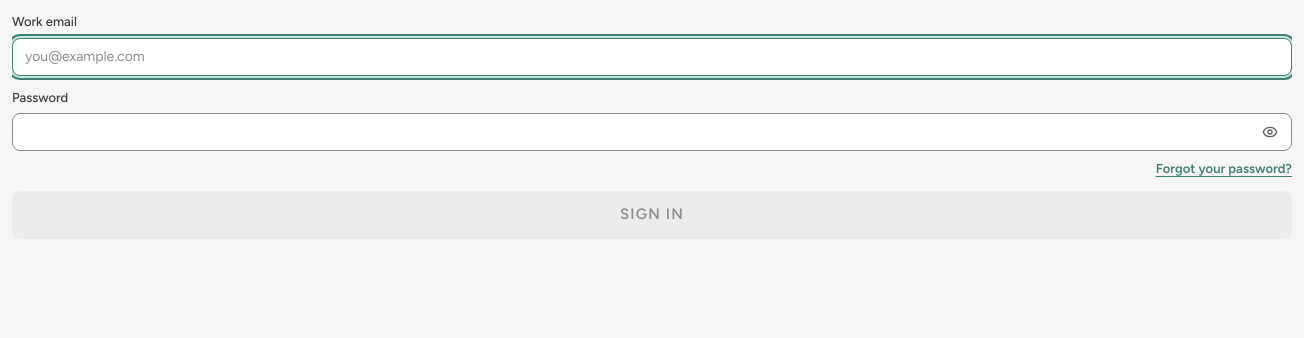
Test: failed credentials stay on the form › reports a configuration failure by variable name, without navigating
In the field labelled "Work email": (652, 56) [12, 38, 1292, 76], type "marlowe.example@glowbrands.test"
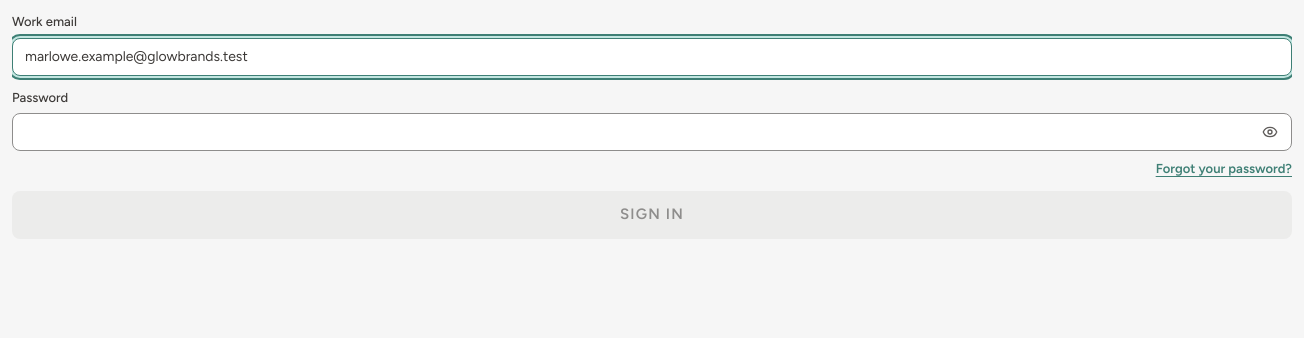
In the password field labelled "Password": (652, 132) [12, 113, 1292, 151], type "a-correct-horse-battery"
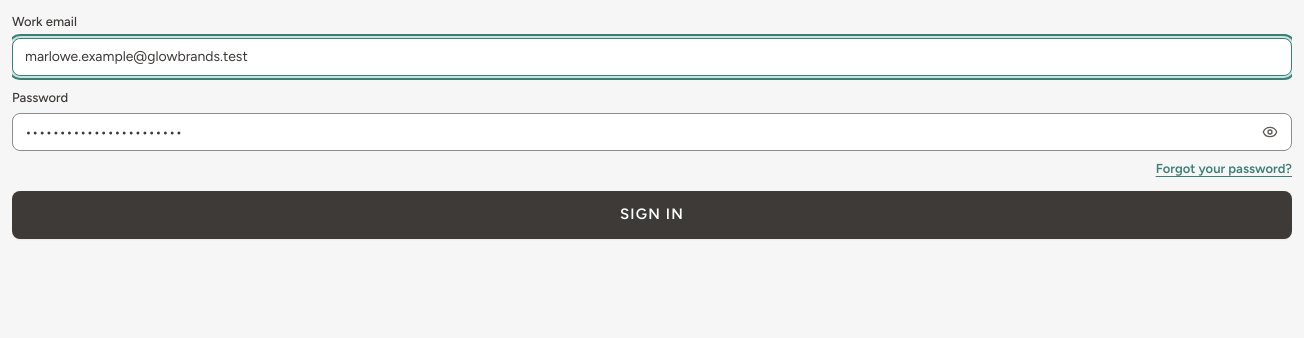
Click the button "Sign in": (652, 214) [12, 190, 1292, 238]
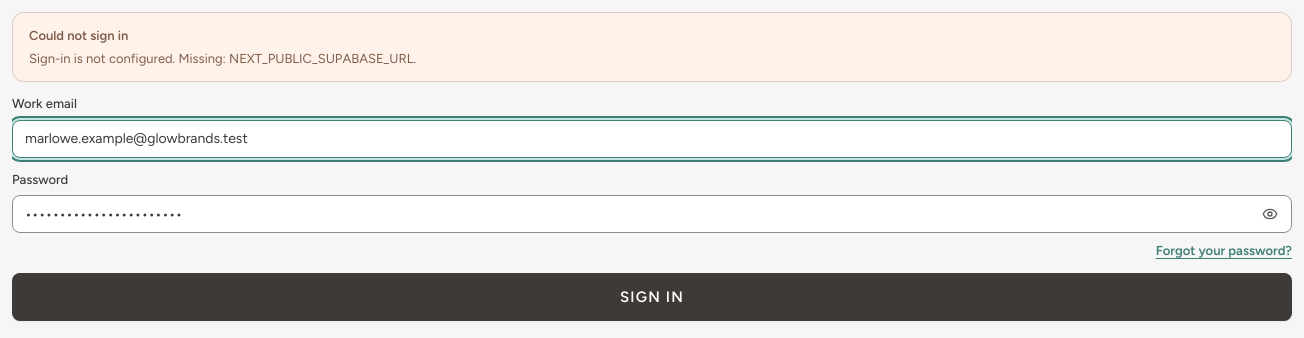
Result: the text "NEXT_PUBLIC_SUPABASE_URL" is shown at [29, 51, 416, 66]
